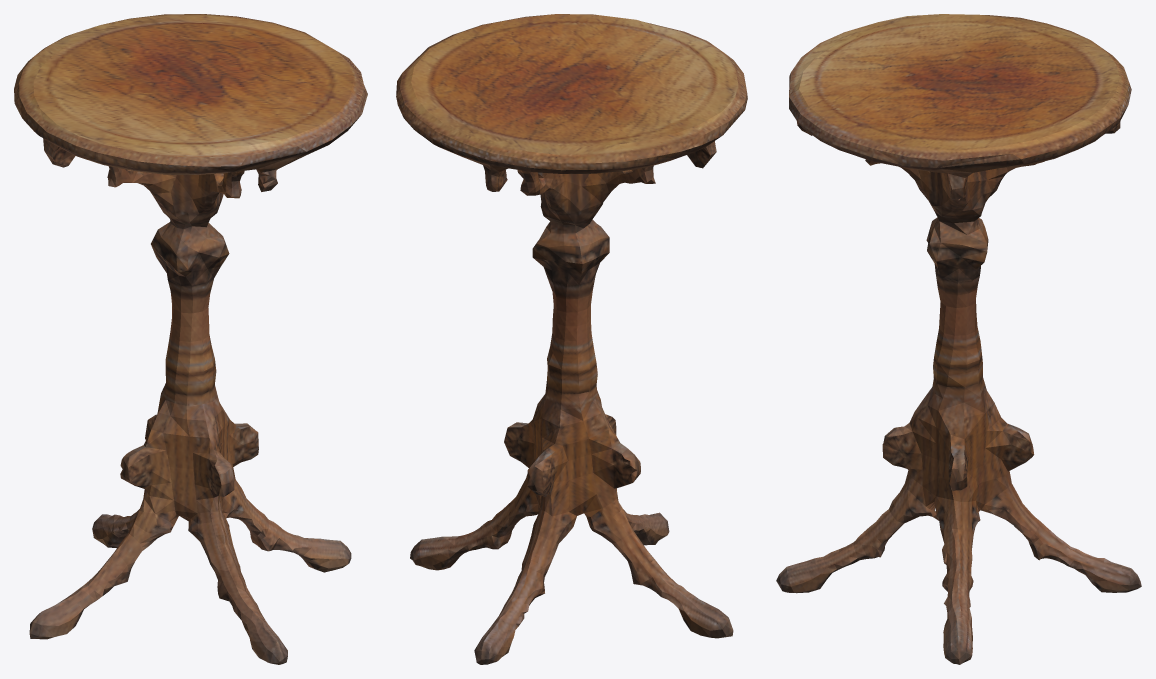
The model's file is RoundTable.fbx.
3 views of the same model, side by side, from view 1: azimuth 30°, elevation 25°; view 2: azimuth 150°, elevation 25°; view 3: azimuth 270°, elevation 25° (orthographic).
Parts seen in each view (by area): view 1: RoundTable_Low; view 2: RoundTable_Low; view 3: RoundTable_Low.
Boxes of the visible parts, x1,y1,x2,y2 form: RoundTable_Low: (14, 14, 367, 664); RoundTable_Low: (396, 14, 747, 664); RoundTable_Low: (776, 14, 1141, 664).
Size of the model in its own units: 0.6073 by 0.9352 by 0.607.
